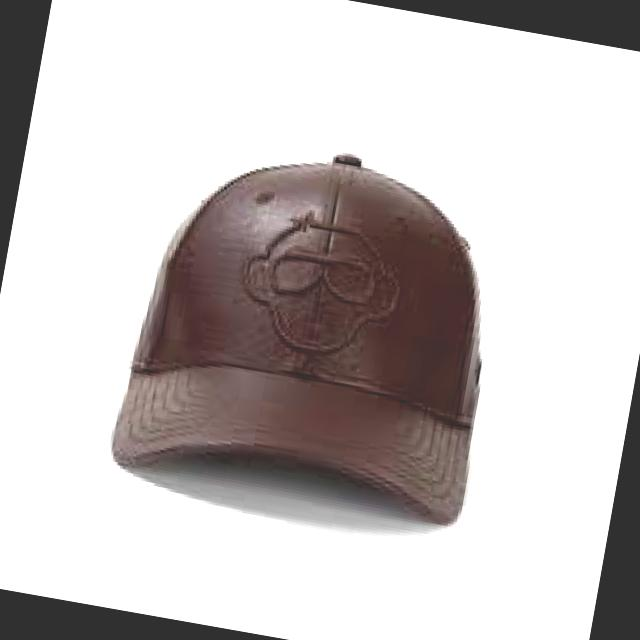hat: (111, 155, 479, 522)
